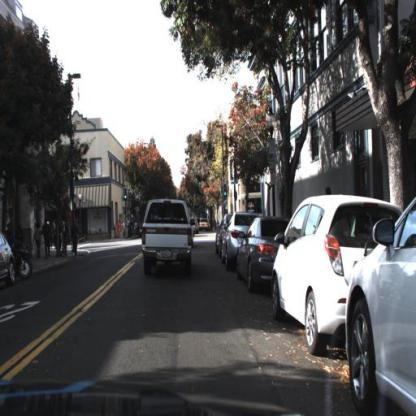biker: (6, 228, 38, 281)
car: (272, 190, 407, 361), (139, 195, 199, 282), (235, 209, 292, 292), (236, 216, 281, 297), (226, 212, 264, 270), (224, 212, 244, 269), (139, 223, 143, 240)
pedestrian: (43, 220, 57, 264), (34, 219, 44, 262), (71, 217, 81, 257), (321, 183, 338, 204), (56, 222, 62, 255), (116, 219, 124, 240), (324, 184, 332, 198)
trafficLight-Green: (223, 182, 231, 199), (124, 187, 130, 203)
